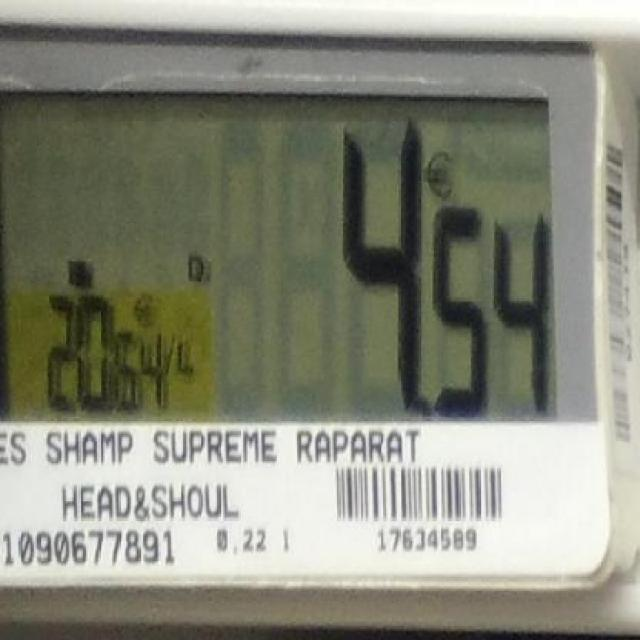display: (0, 89, 560, 424)
frame: (328, 118, 557, 420), (29, 284, 177, 414), (2, 529, 180, 571), (371, 523, 484, 559), (210, 523, 272, 559), (277, 523, 298, 558)
gauge: (0, 25, 640, 593)
